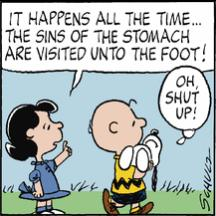charlie: (87, 95, 154, 214)
snoopy: (116, 126, 166, 192)
